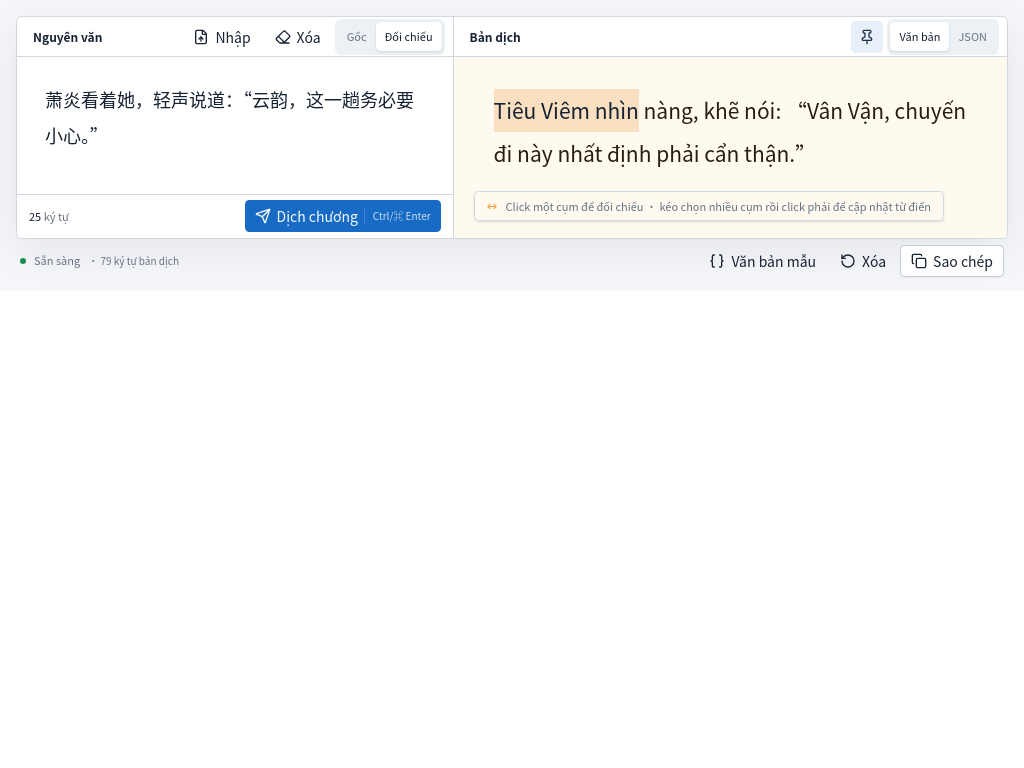
translation range pin › uses all mapped ranges crossed by a text selection
This screenshot has width=1024, height=768.
Right-click the button with aria-label "Range 2: nhìn" at (617, 110), box [595, 95, 639, 125]
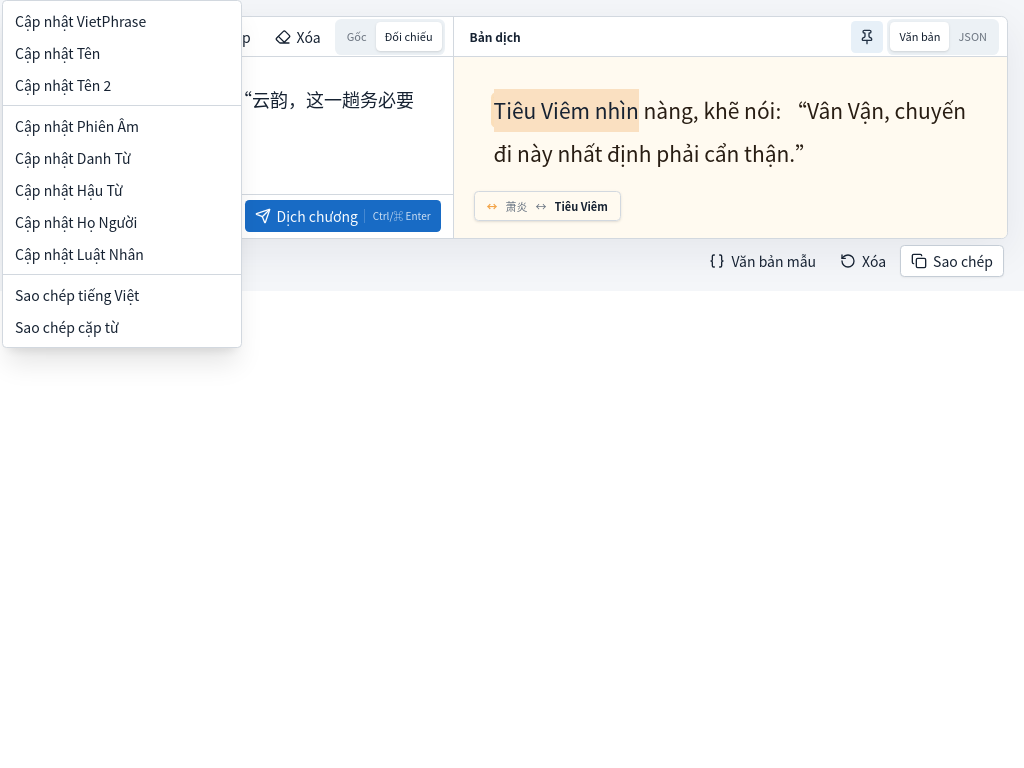
Click the menu item "Cập nhật Tên 2" at (63, 85), box [15, 75, 111, 95]
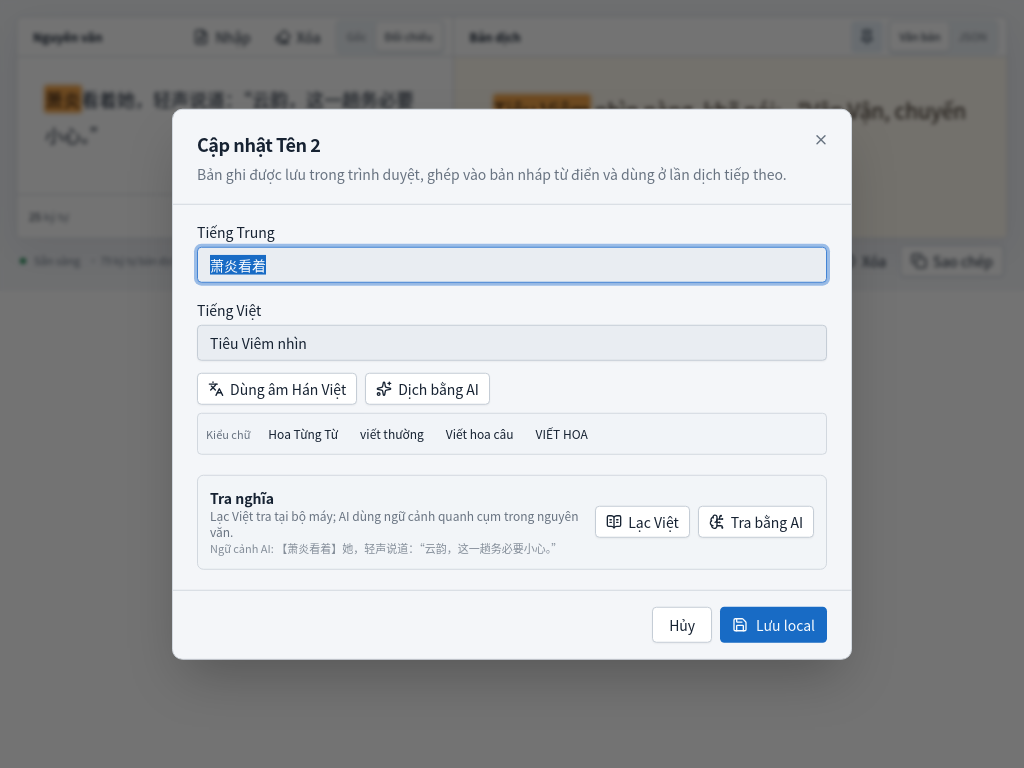
Result: the field labelled "Tiếng Trung" holds "萧炎看着" at [197, 247, 827, 283]
Result: the field labelled "Tiếng Việt" holds "Tiêu Viêm nhìn" at [197, 325, 827, 361]
